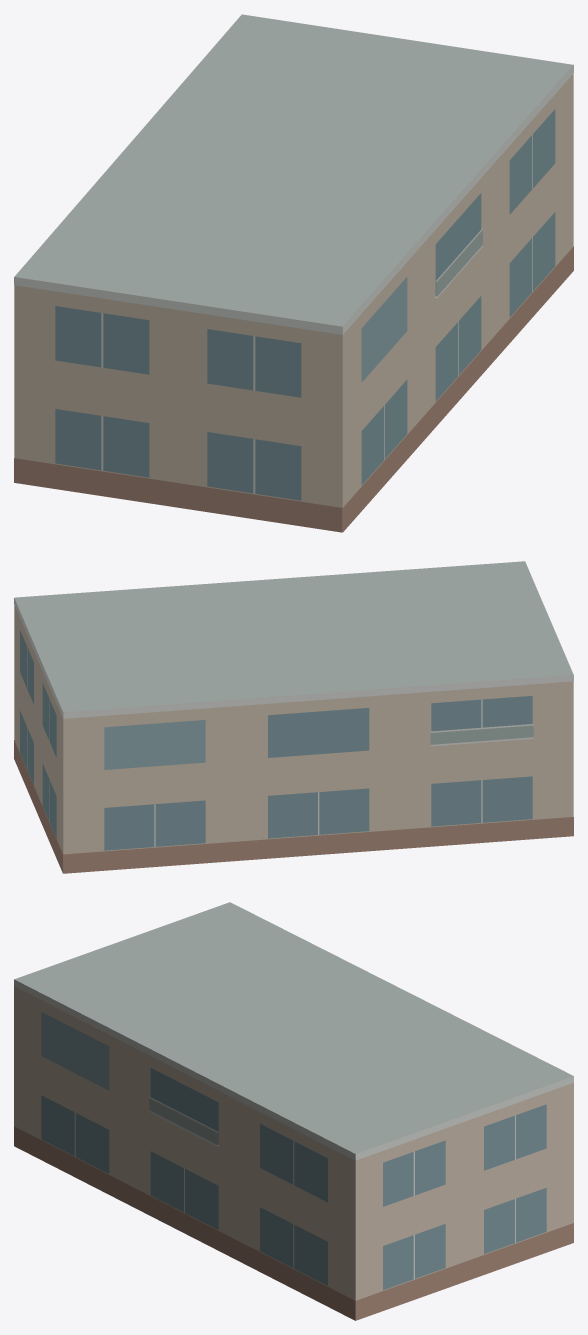
File: survey-upis-32849200.glb
3 renders of one model, top to bottom at view 1: azimuth 30°, elevation 25°; view 2: azimuth 150°, elevation 25°; view 3: azimuth 270°, elevation 25°, orthographic. The views are drawn at different scales.
Parts seen in each view (by area): view 1: survey-upis-32849200.tmp; view 2: survey-upis-32849200.tmp; view 3: survey-upis-32849200.tmp.
Boxes of the visible parts, x1=… form: survey-upis-32849200.tmp: x1=14, y1=14, x2=573, y2=532; survey-upis-32849200.tmp: x1=14, y1=561, x2=573, y2=873; survey-upis-32849200.tmp: x1=14, y1=902, x2=573, y2=1320.
Bounding box in the file's own units: 19.77 × 6.1 × 18.56.
